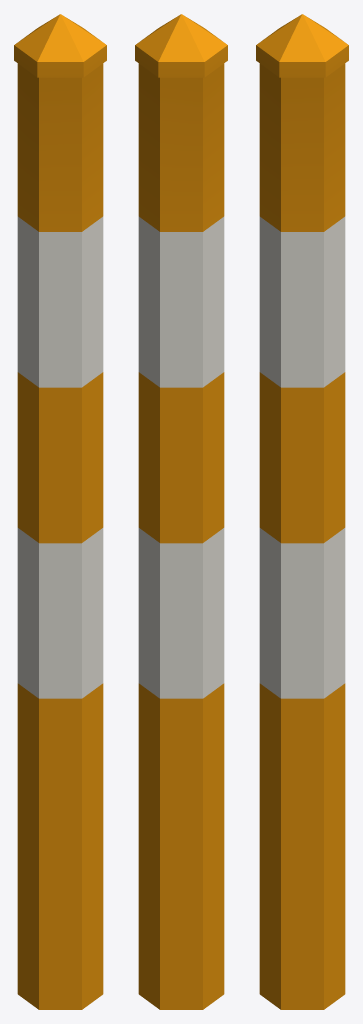
The model's file is corridorpole.glb.
3 views of the same model, side by side, from view 1: azimuth 90°, elevation 25°; view 2: azimuth 150°, elevation 25°; view 3: azimuth 270°, elevation 25° (orthographic).
Visible parts, largest first — view 1: palette_trim, trim; view 2: palette_trim, trim; view 3: palette_trim, trim.
Boxes of the visible parts, x1=… form: palette_trim: x1=14, y1=14, x2=106, y2=1009; trim: x1=17, y1=216, x2=103, y2=698; palette_trim: x1=135, y1=14, x2=227, y2=1009; trim: x1=138, y1=216, x2=224, y2=698; palette_trim: x1=256, y1=14, x2=348, y2=1009; trim: x1=259, y1=216, x2=345, y2=698.
Size of the model in its own units: 0.4677 by 6.3 by 0.54.
